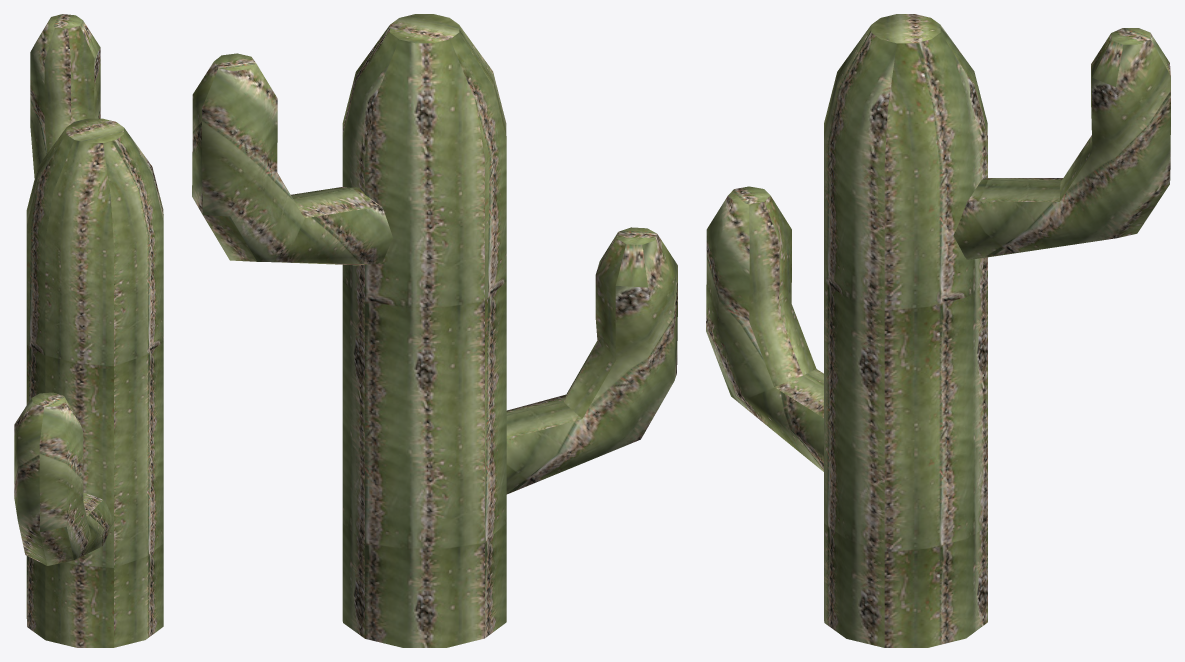
Rendered from cactus_6.obj.
The picture shows the model from 3 angles, left to right: view 1: azimuth 30°, elevation 25°; view 2: azimuth 150°, elevation 25°; view 3: azimuth 270°, elevation 25°; orthographic projection. The views are drawn at different scales.
Parts seen in each view (by area): view 1: cactus6; view 2: cactus6; view 3: cactus6.
Part boxes in pixels (x1,y1,x2,y2): cactus6: (14, 14, 163, 647); cactus6: (192, 14, 677, 647); cactus6: (706, 14, 1170, 647).
Bounding box in the file's own units: 2.31 × 4.8 × 3.29.
Materials: 1 (1 with a texture image).
